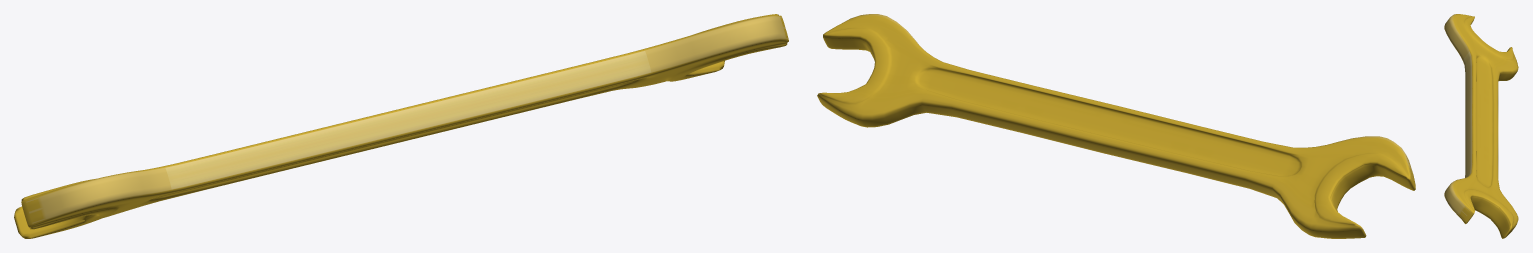
File: Clé.fbx
The picture shows the model from 3 angles, left to right: view 1: azimuth 30°, elevation 25°; view 2: azimuth 150°, elevation 25°; view 3: azimuth 270°, elevation 25°; orthographic projection. The views are drawn at different scales.
Parts seen in each view (by area): view 1: wrench:polySurface6; view 2: wrench:polySurface6; view 3: wrench:polySurface6.
Part boxes in pixels (x1,y1,x2,y2): wrench:polySurface6: [14, 14, 788, 238]; wrench:polySurface6: [817, 14, 1415, 238]; wrench:polySurface6: [1444, 14, 1518, 238].
Bounding box in the file's own units: 28.75 × 3.42 × 4.59.
Materials: 1 (1 with a texture image).
